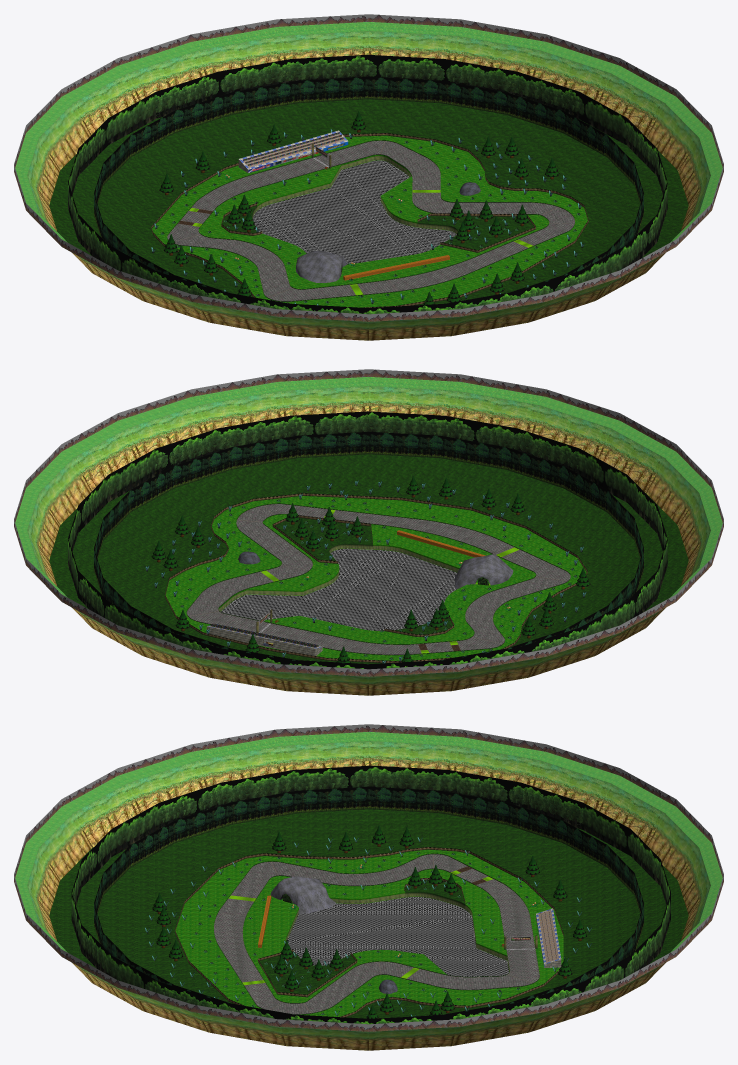
3 views of the same model, one above another, from view 1: azimuth 30°, elevation 25°; view 2: azimuth 150°, elevation 25°; view 3: azimuth 270°, elevation 25° (orthographic).
Visible parts, largest first — view 1: model-SKP--mud, model-SKP--bgcliff, model-SKP--bgtrees2, model-SKP--mud.003, model-SKP--bgtrees1, model-SKP--mud.004, model-SKP--bgmountains, model-SKP--water, model-SKP--bggrass, model-SKP--tree, model-SKP--fence, model-SKP--flora1 (+6 smaller); view 2: model-SKP--mud, model-SKP--bgcliff, model-SKP--bgtrees2, model-SKP--mud.003, model-SKP--bgtrees1, model-SKP--mud.004, model-SKP--bgmountains, model-SKP--water, model-SKP--bggrass, model-SKP--tree, model-SKP--fence, model-SKP--flora1 (+4 smaller); view 3: model-SKP--mud, model-SKP--bgcliff, model-SKP--bgtrees2, model-SKP--mud.003, model-SKP--bgtrees1, model-SKP--mud.004, model-SKP--bgmountains, model-SKP--water, model-SKP--bggrass, model-SKP--tree, model-SKP--fence, model-SKP--flora1 (+4 smaller).
Part boxes in pixels (x1,y1,x2,y2): model-SKP--mud: [49, 99, 688, 305]; model-SKP--bgcliff: [27, 31, 710, 340]; model-SKP--bgtrees2: [68, 54, 667, 314]; model-SKP--mud.003: [152, 135, 587, 307]; model-SKP--bgtrees1: [94, 76, 643, 292]; model-SKP--mud.004: [167, 141, 574, 301]; model-SKP--bgmountains: [14, 14, 723, 321]; model-SKP--water: [252, 160, 456, 264]; model-SKP--bggrass: [15, 22, 722, 242]; model-SKP--tree: [159, 111, 559, 304]; model-SKP--fence: [151, 133, 588, 307]; model-SKP--flora1: [151, 129, 584, 305]; model-SKP--mud: [49, 454, 688, 663]; model-SKP--bgcliff: [27, 386, 710, 695]; model-SKP--bgtrees2: [68, 411, 667, 669]; model-SKP--mud.003: [165, 496, 586, 661]; model-SKP--bgtrees1: [94, 431, 643, 664]; model-SKP--mud.004: [187, 504, 570, 654]; model-SKP--bgmountains: [14, 369, 723, 676]; model-SKP--water: [220, 548, 456, 630]; model-SKP--bggrass: [15, 377, 722, 597]; model-SKP--tree: [151, 476, 590, 662]; model-SKP--fence: [165, 493, 587, 663]; model-SKP--flora1: [145, 480, 586, 663]; model-SKP--mud: [49, 809, 688, 1018]; model-SKP--bgcliff: [27, 741, 710, 1050]; model-SKP--bgtrees2: [71, 765, 670, 1024]; model-SKP--mud.003: [175, 849, 563, 1016]; model-SKP--bgtrees1: [94, 786, 643, 1014]; model-SKP--mud.004: [214, 854, 539, 1014]; model-SKP--bgmountains: [14, 724, 723, 1031]; model-SKP--water: [287, 897, 509, 976]; model-SKP--bggrass: [15, 732, 722, 952]; model-SKP--tree: [152, 825, 586, 1018]; model-SKP--fence: [175, 847, 563, 1017]; model-SKP--flora1: [145, 837, 592, 1016].
Bounding box in the file's own units: 139977 × 14433 × 139977.
Materials: 37 (37 with a texture image).
